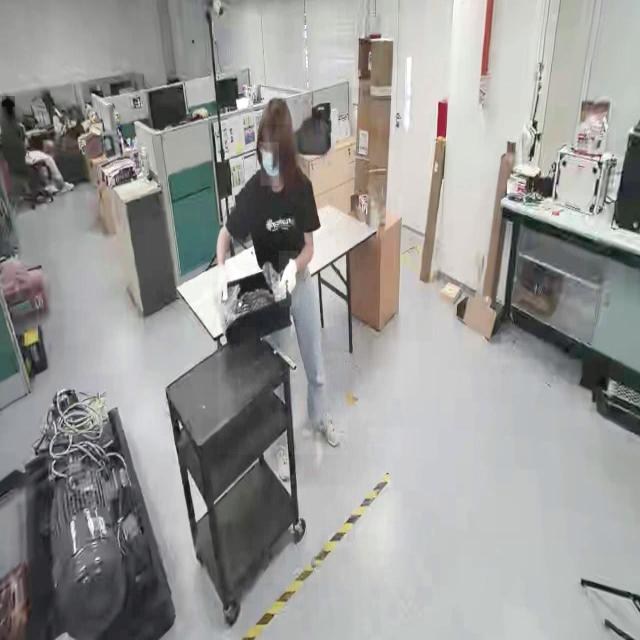face_mask: (261, 142, 279, 186)
hand_glove: (279, 250, 299, 308), (212, 260, 229, 306)
head_nohelmet: (260, 95, 292, 125), (1, 96, 15, 108)
person: (218, 101, 348, 455)
shoes: (306, 401, 344, 452)
